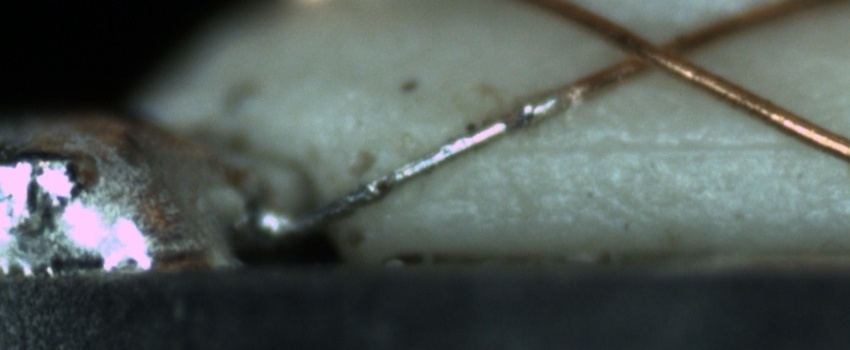CL: (608, 17, 710, 84)
DL: (473, 114, 802, 176)
TS: (275, 93, 563, 240)
